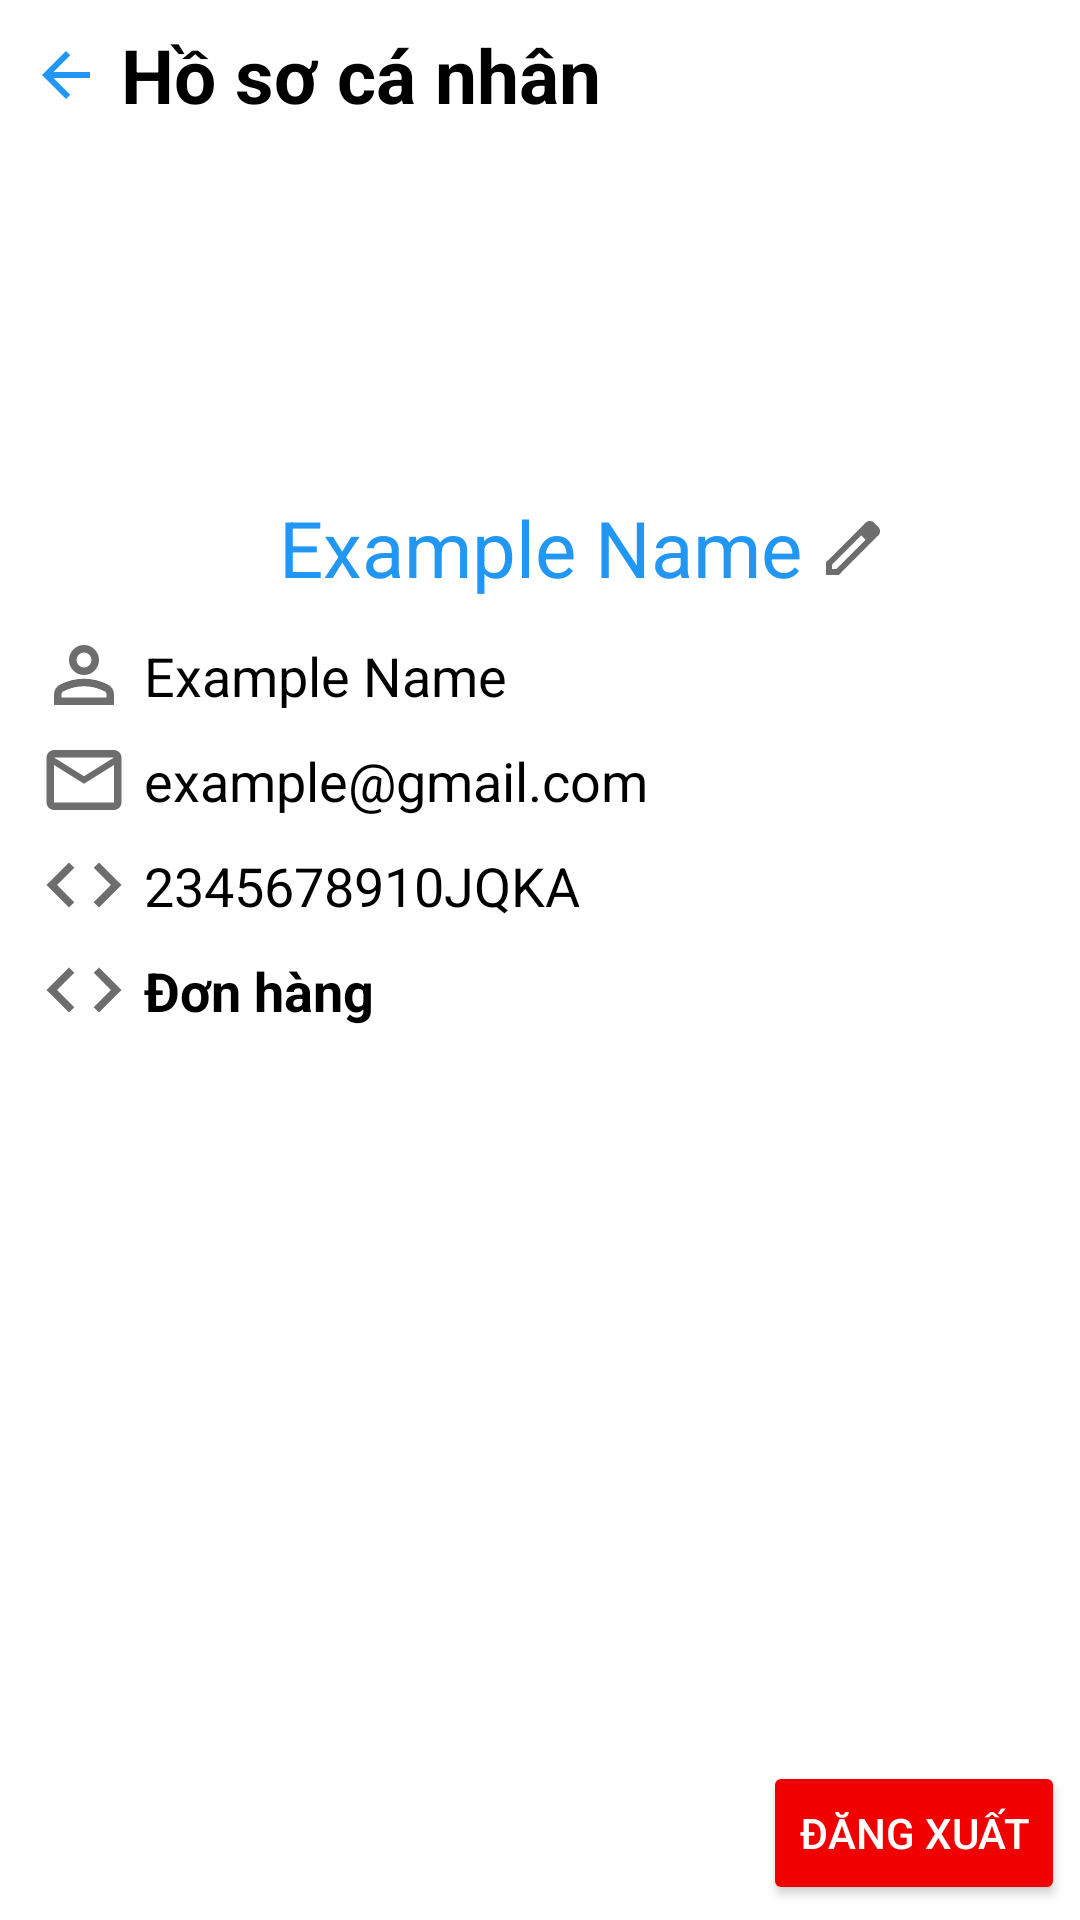

Icons on this 1080 × 1920 Android screen, each with the point to tap as [x,y]:
Sửa tên: [853,548]
